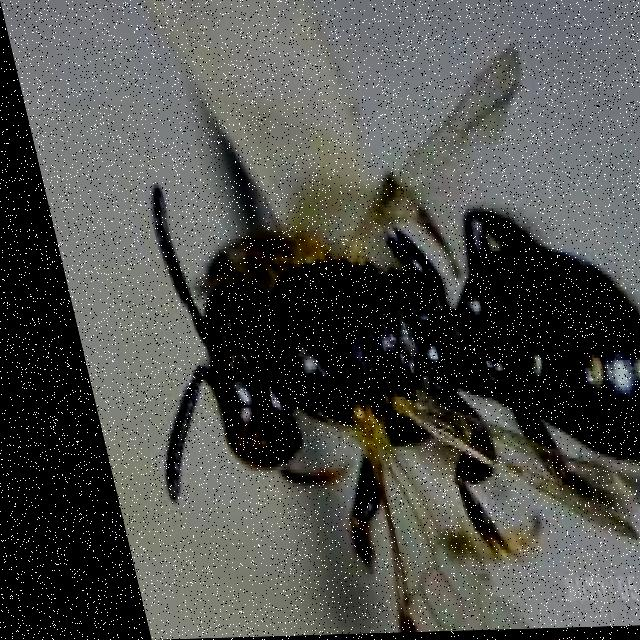Braunsapis: (35, 25, 640, 602)
